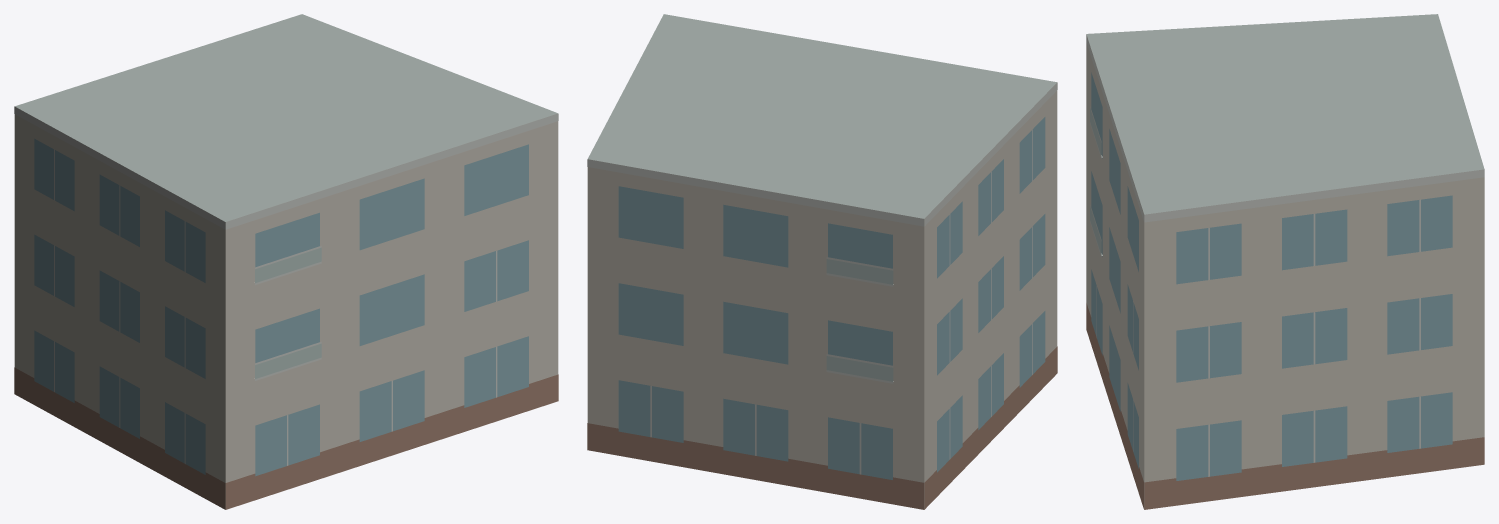
The model's file is survey-upis-32837266.glb.
3 views of the same model, side by side, from view 1: azimuth 30°, elevation 25°; view 2: azimuth 150°, elevation 25°; view 3: azimuth 270°, elevation 25° (orthographic). The views are drawn at different scales.
Visible parts, largest first — view 1: survey-upis-32837266.tmp; view 2: survey-upis-32837266.tmp; view 3: survey-upis-32837266.tmp.
Boxes of the visible parts, x1,y1,x2,y2 form: survey-upis-32837266.tmp: [14, 14, 558, 509]; survey-upis-32837266.tmp: [587, 14, 1057, 509]; survey-upis-32837266.tmp: [1086, 14, 1484, 509].
Size of the model in its own units: 13.35 by 9.15 by 11.2.
